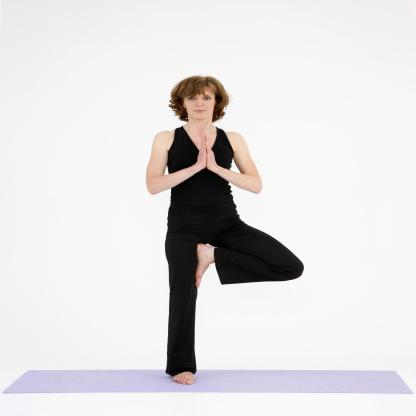tree: (124, 70, 310, 388)
